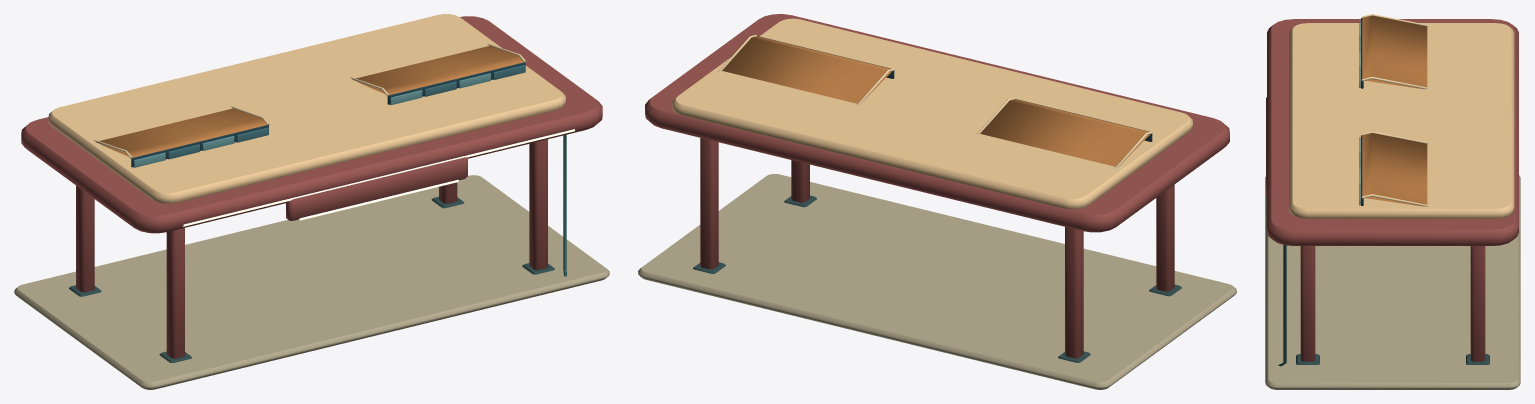
File: route66_fuel.glb
The picture shows the model from 3 angles, left to right: view 1: azimuth 30°, elevation 25°; view 2: azimuth 150°, elevation 25°; view 3: azimuth 270°, elevation 25°; orthographic projection. The views are drawn at different scales.
Parts seen in each view (by area): view 1: Route66Fuel; view 2: Route66Fuel; view 3: Route66Fuel.
Part boxes in pixels (<box>): Route66Fuel: <box>14,14,609,389</box>; Route66Fuel: <box>638,14,1236,389</box>; Route66Fuel: <box>1265,14,1520,389</box>.
Bounding box in the file's own units: 10.38 × 4.06 × 5.22.
